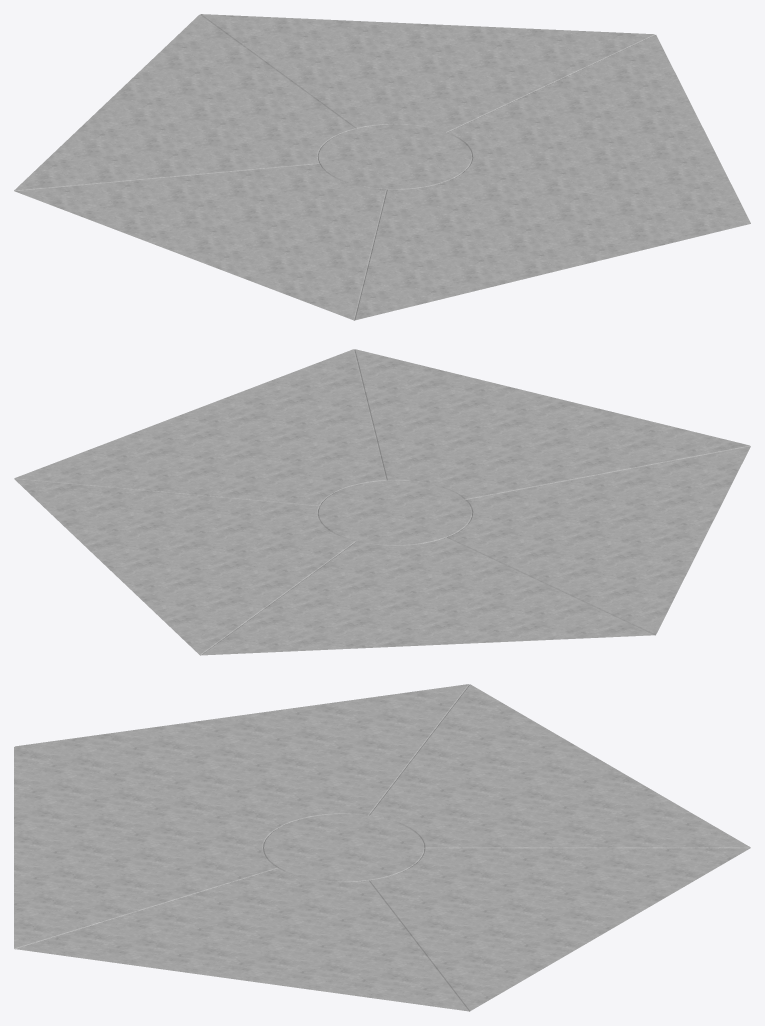
Rendered from Courtyard_floor.glb.
3 views of the same model, one above another, from view 1: azimuth 30°, elevation 25°; view 2: azimuth 150°, elevation 25°; view 3: azimuth 270°, elevation 25° (orthographic). The views are drawn at different scales.
Parts seen in each view (by area): view 1: Courtyard floor; view 2: Courtyard floor; view 3: Courtyard floor.
Boxes of the visible parts, <box> form: Courtyard floor: <box>14,14,750,320</box>; Courtyard floor: <box>14,349,750,655</box>; Courtyard floor: <box>14,684,750,1011</box>.
Bounding box in the file's own units: 144 × 0.1 × 137.
1 material, 1 textured.
